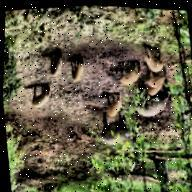boar: (134, 89, 179, 132), (109, 54, 146, 93), (27, 84, 62, 121), (99, 119, 133, 152), (66, 49, 95, 85), (45, 45, 68, 81), (99, 98, 125, 128), (146, 66, 171, 93), (146, 44, 166, 72), (149, 81, 170, 99)
